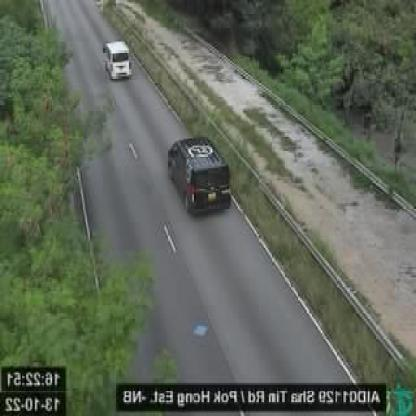Car: (168, 134, 233, 214), (102, 39, 132, 81)
